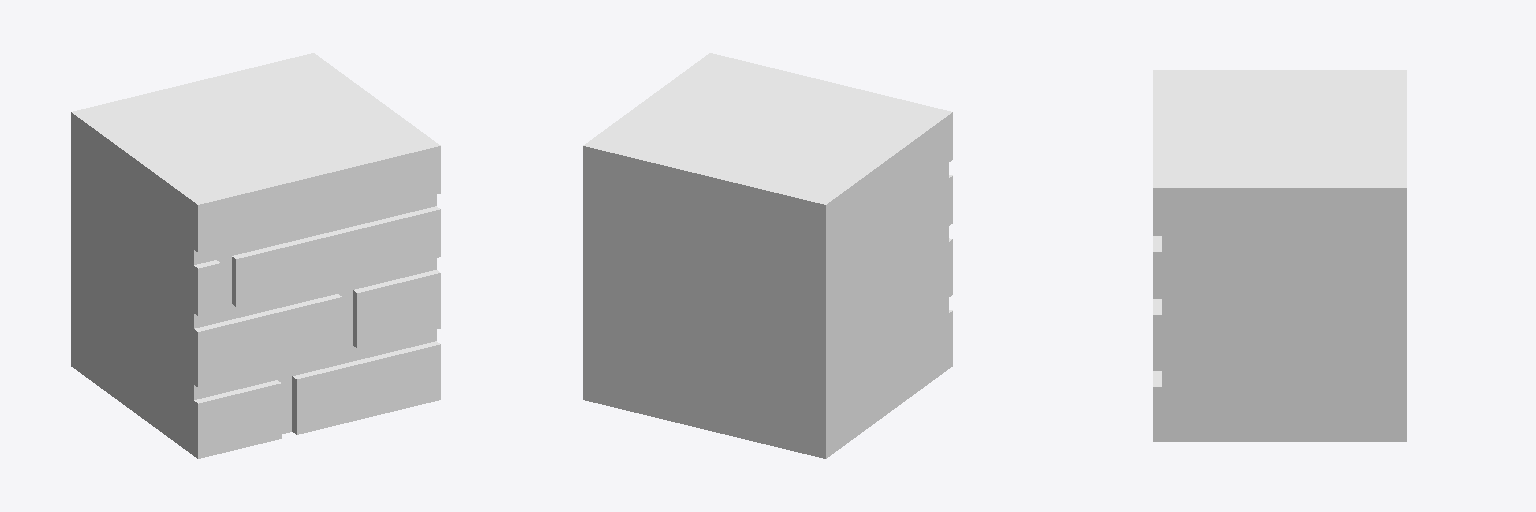
Rendered from stone_bricks-7.obj.
3 views of the same model, side by side, from view 1: azimuth 30°, elevation 25°; view 2: azimuth 150°, elevation 25°; view 3: azimuth 270°, elevation 25° (orthographic).
Visible parts, largest first — view 1: object 1; view 2: object 1; view 3: object 1.
Part boxes in pixels (x1,y1,x2,y2): object 1: (71,53,440,458); object 1: (583,53,952,458); object 1: (1153,70,1406,441).
Bounding box in the file's own units: 3.2 × 3.2 × 2.9.